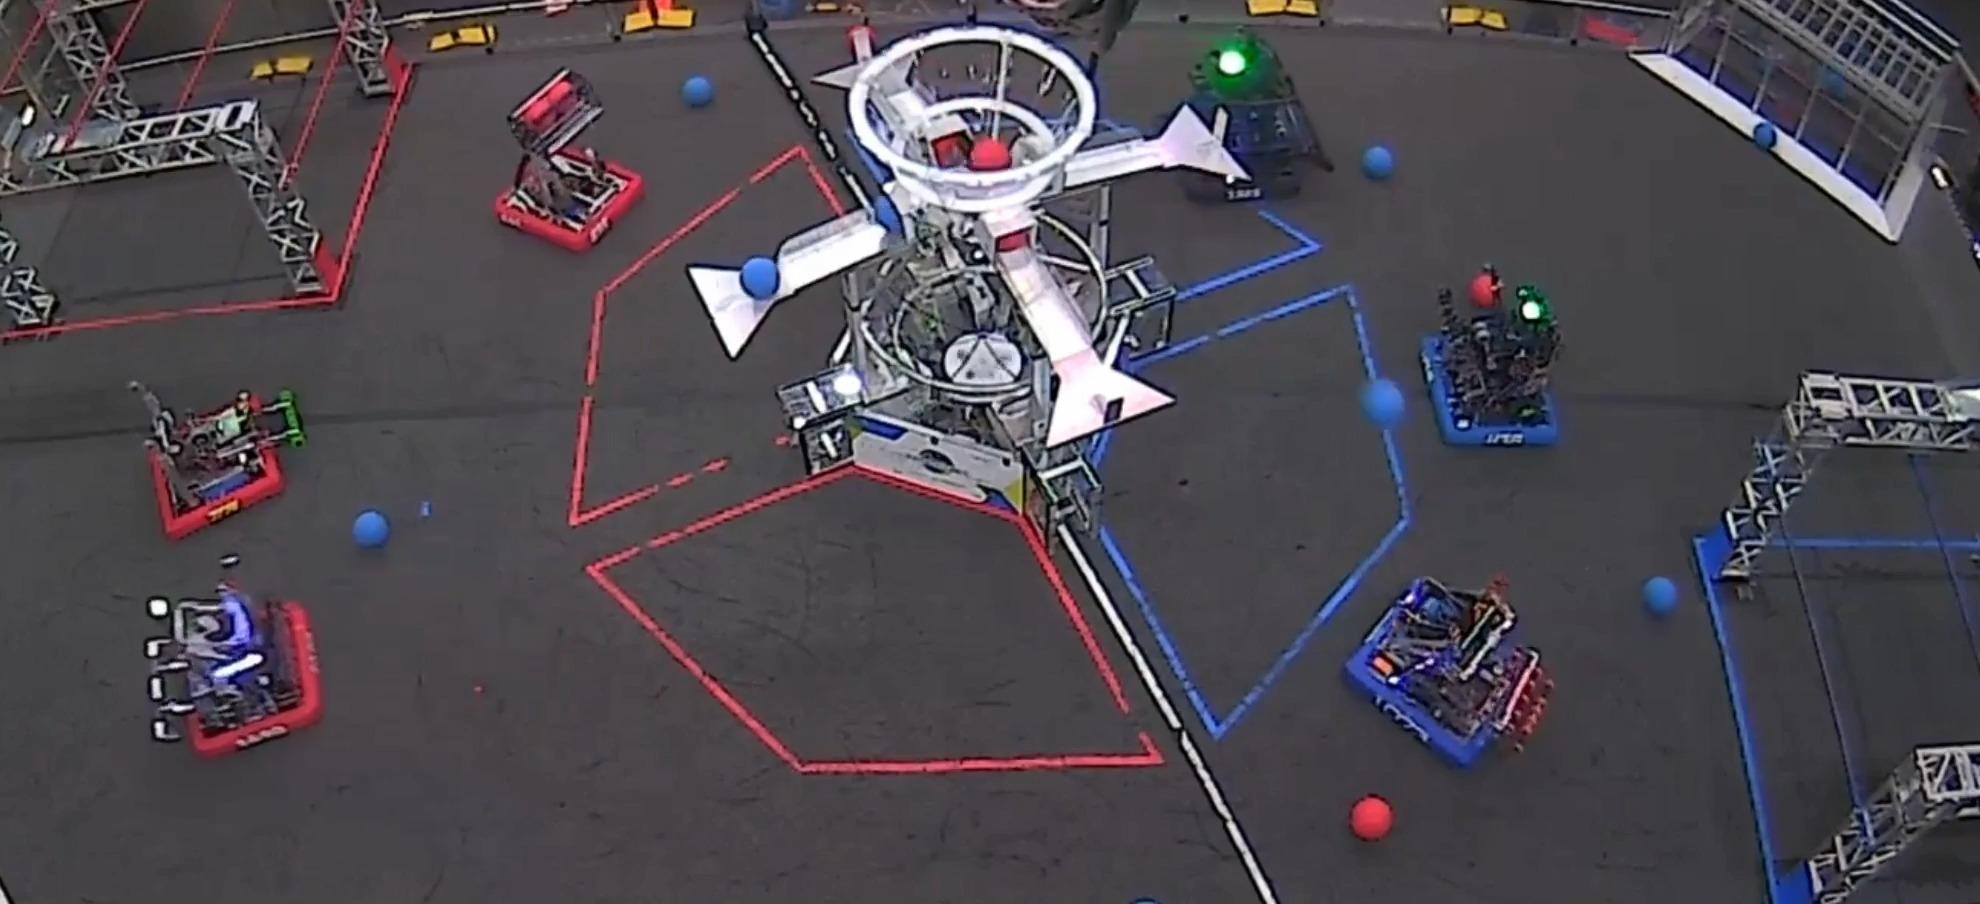Robots: (1346, 578, 1552, 766), (146, 574, 321, 755), (129, 383, 306, 539), (495, 69, 643, 251), (1183, 29, 1333, 201), (1422, 265, 1560, 444)
